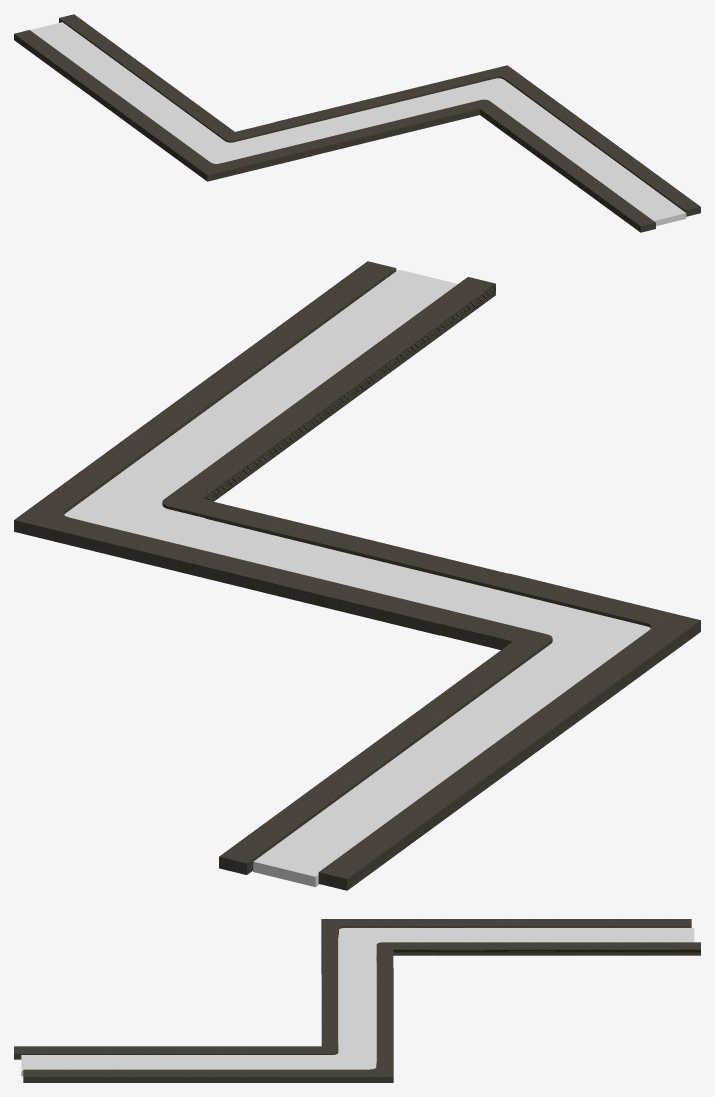
File: road_modified_1.fbx
3 renders of one model, top to bottom at view 1: azimuth 30°, elevation 25°; view 2: azimuth 150°, elevation 25°; view 3: azimuth 270°, elevation 25°, orthographic. The views are drawn at different scales.
Visible parts, largest first — view 1: Cube.005, Cube.006, Cube.007; view 2: Cube.005, Cube.006, Cube.007; view 3: Cube.005, Cube.006, Cube.007.
Part boxes in pixels (x1,y1,x2,y2): Cube.005: [14, 14, 700, 232]; Cube.006: [318, 78, 686, 225]; Cube.007: [30, 22, 335, 163]; Cube.005: [14, 261, 700, 890]; Cube.006: [64, 269, 457, 597]; Cube.007: [253, 573, 650, 887]; Cube.005: [14, 919, 700, 1082]; Cube.006: [21, 985, 376, 1076]; Cube.007: [339, 928, 694, 985].
Bounding box in the file's own units: 7152 × 147 × 13160.
